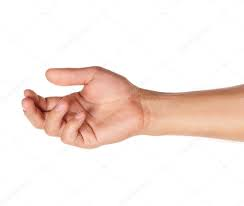hand: (26, 54, 161, 147)
